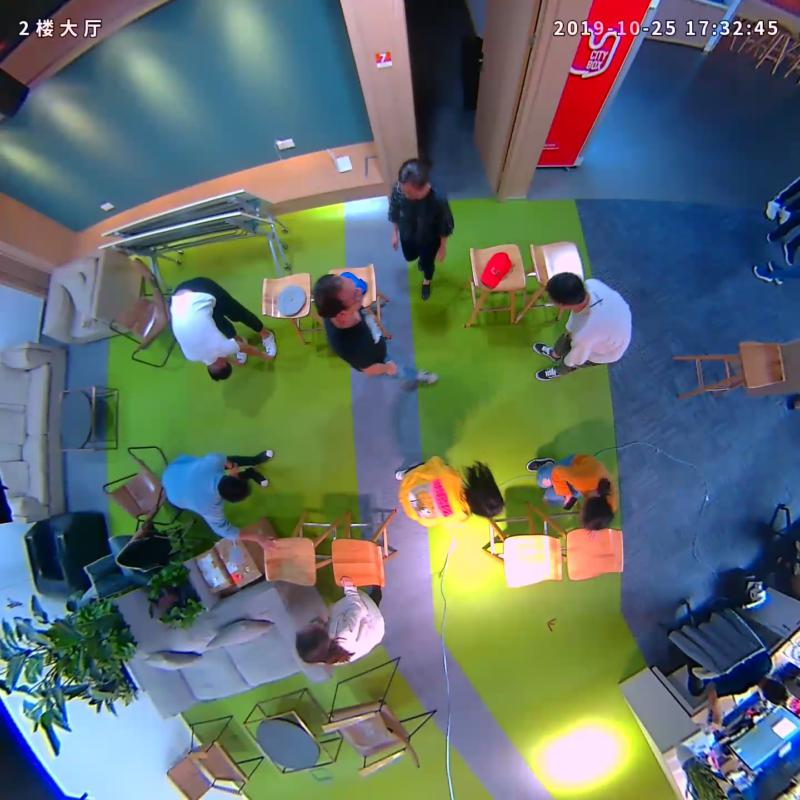head: (311, 268, 374, 321), (456, 467, 513, 522), (537, 267, 593, 313), (288, 621, 335, 669), (575, 489, 621, 536), (393, 153, 433, 201), (214, 469, 256, 507), (196, 352, 239, 385)
